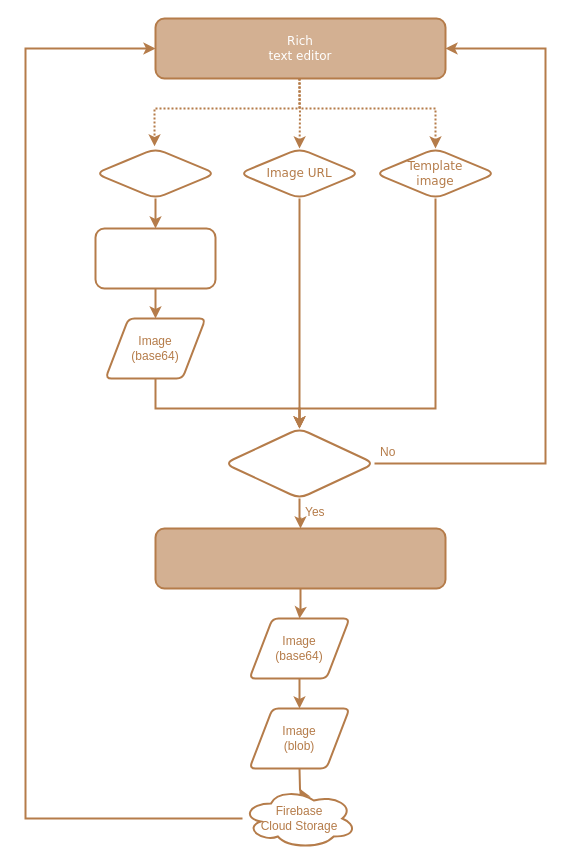
Some shapes in this 571 by 866 pixel diagram are drawn without their labels. The centre of each missing label's shape, as x and y in pixels:
Compressor: the point at 155,258
Edit: the point at 299,463
Image editor: the point at 300,558
Image file: the point at 155,173
